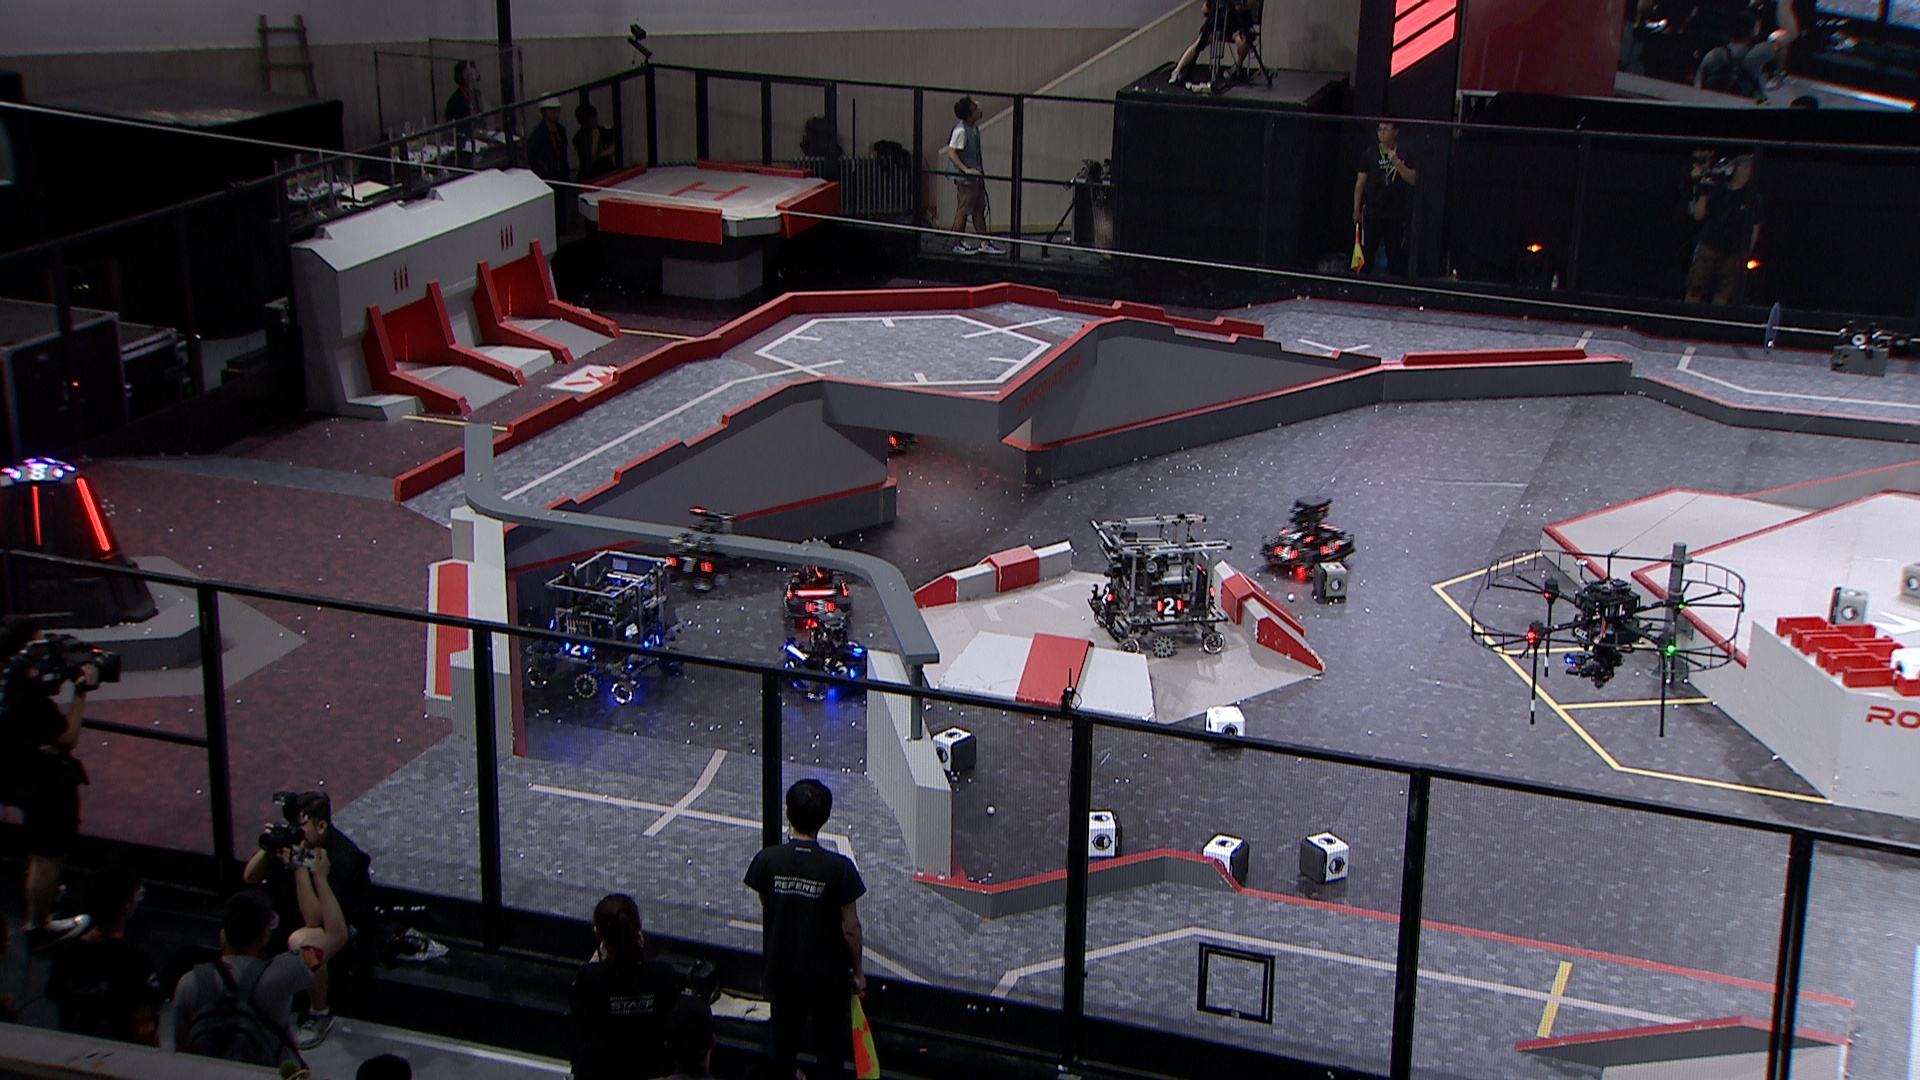armor: (74, 475, 111, 555), (667, 553, 711, 576), (30, 481, 44, 547), (837, 632, 865, 651), (802, 597, 832, 615), (1156, 597, 1182, 616), (833, 662, 860, 679), (562, 641, 589, 657), (1321, 538, 1340, 559), (1273, 545, 1296, 560), (1282, 527, 1307, 542), (640, 636, 661, 651), (781, 583, 795, 603), (1101, 585, 1114, 607), (783, 657, 796, 673)
car: (527, 543, 680, 702), (1087, 510, 1228, 655), (775, 615, 876, 703), (1258, 491, 1358, 572), (775, 537, 860, 624), (851, 401, 922, 467)
ignore: (13, 463, 65, 483)
watcher: (659, 505, 740, 600)
